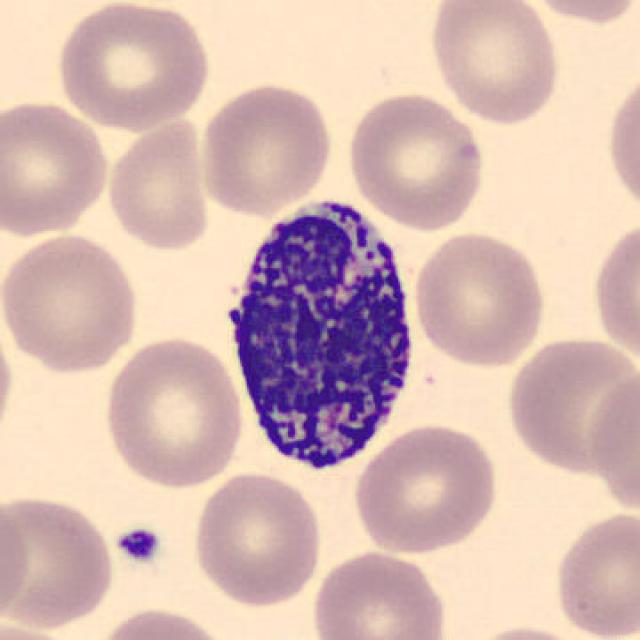Basophil: (217, 185, 425, 485)
Platelets: (112, 524, 165, 566)
RBC: (100, 331, 247, 492), (52, 0, 215, 132), (343, 86, 489, 233), (0, 229, 144, 376), (349, 420, 503, 557), (409, 228, 549, 370), (502, 332, 636, 479), (196, 77, 336, 217), (188, 469, 326, 610), (425, 0, 563, 127), (0, 488, 119, 632), (0, 97, 114, 240), (101, 113, 215, 254), (307, 546, 451, 640), (549, 508, 640, 640), (583, 364, 638, 518), (588, 214, 638, 370), (604, 66, 640, 220), (89, 604, 235, 640), (0, 490, 34, 631), (519, 0, 640, 26), (0, 310, 18, 455), (460, 622, 596, 640), (0, 617, 89, 640)
